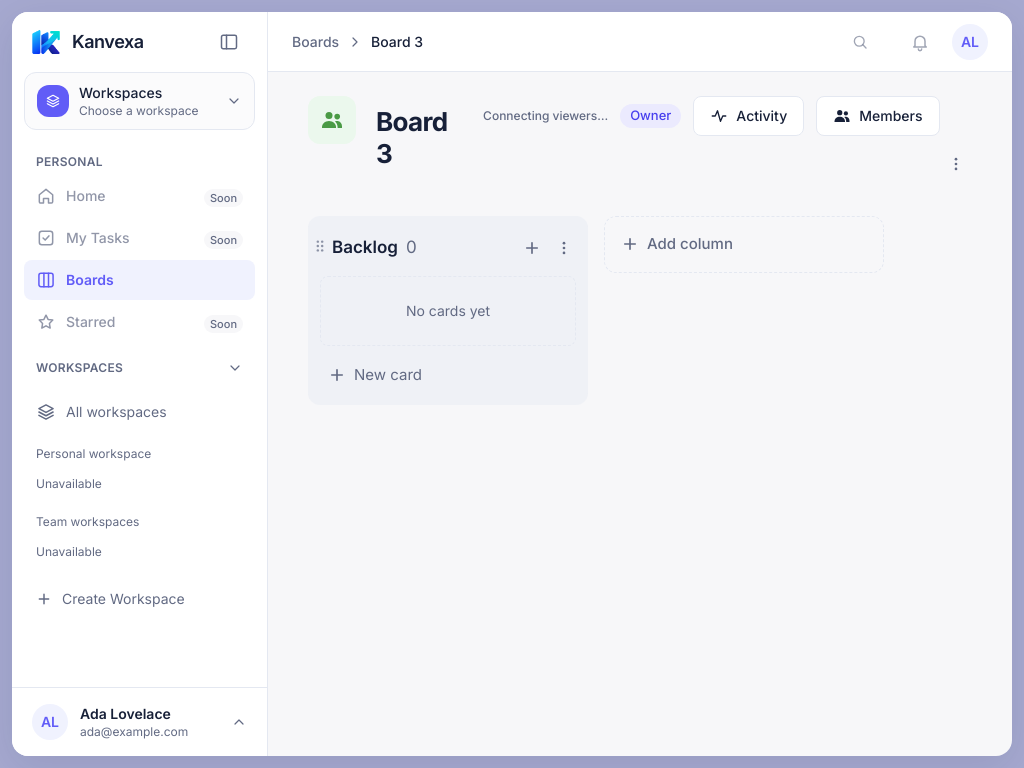
column actions › adds more columns from the tile after the last column
Check: the heading "Backlog" is shown, box [332,235,398,261]
What coordinates should you click on to do the following:
click the button "Add column"
I would click on:
 (690, 244)
Its box is [604,216,884,272].
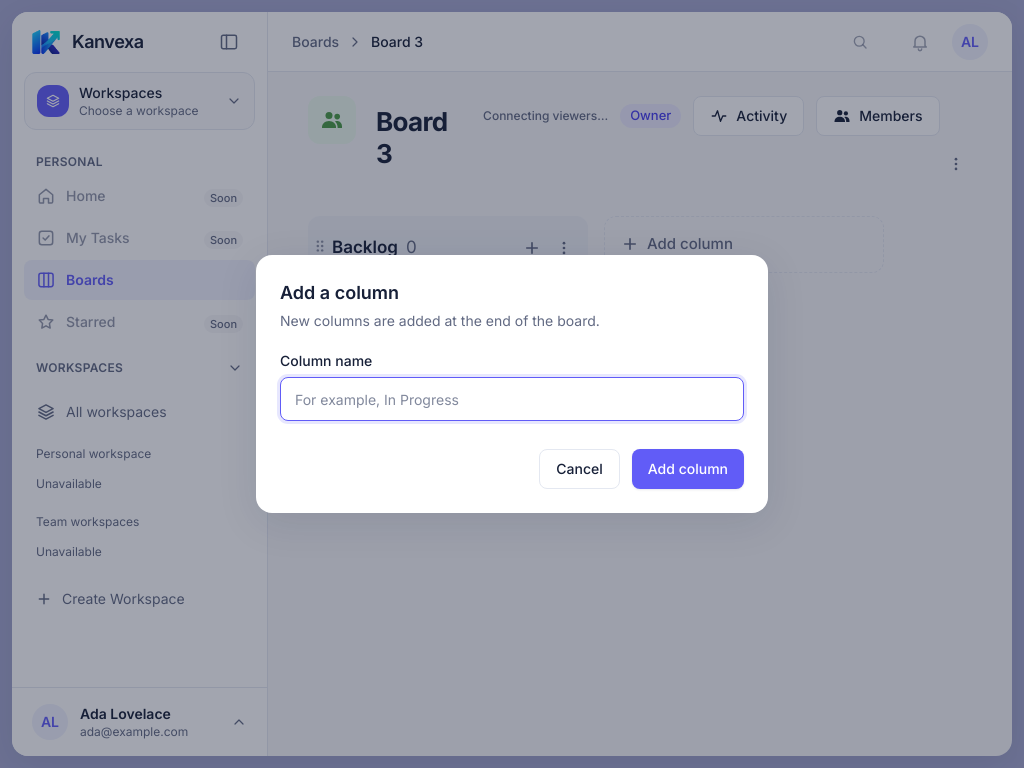
Check: the dialog "Add a column" is shown, box [256,255,768,513]
